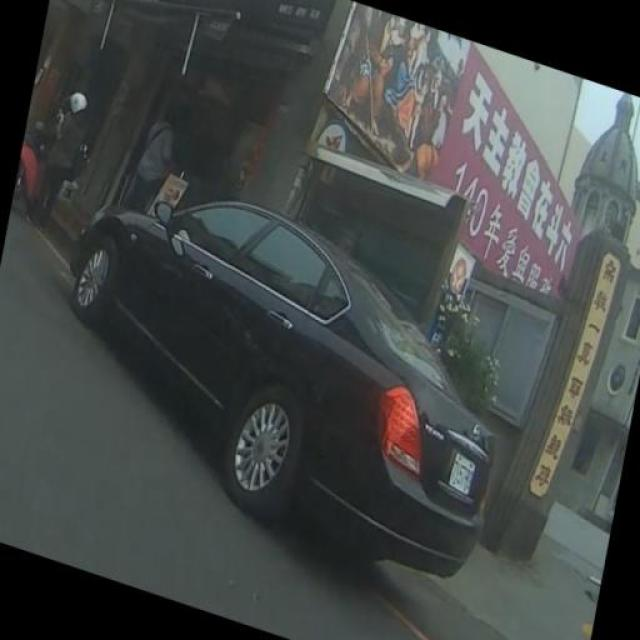Legalparking: (16, 187, 589, 583)
